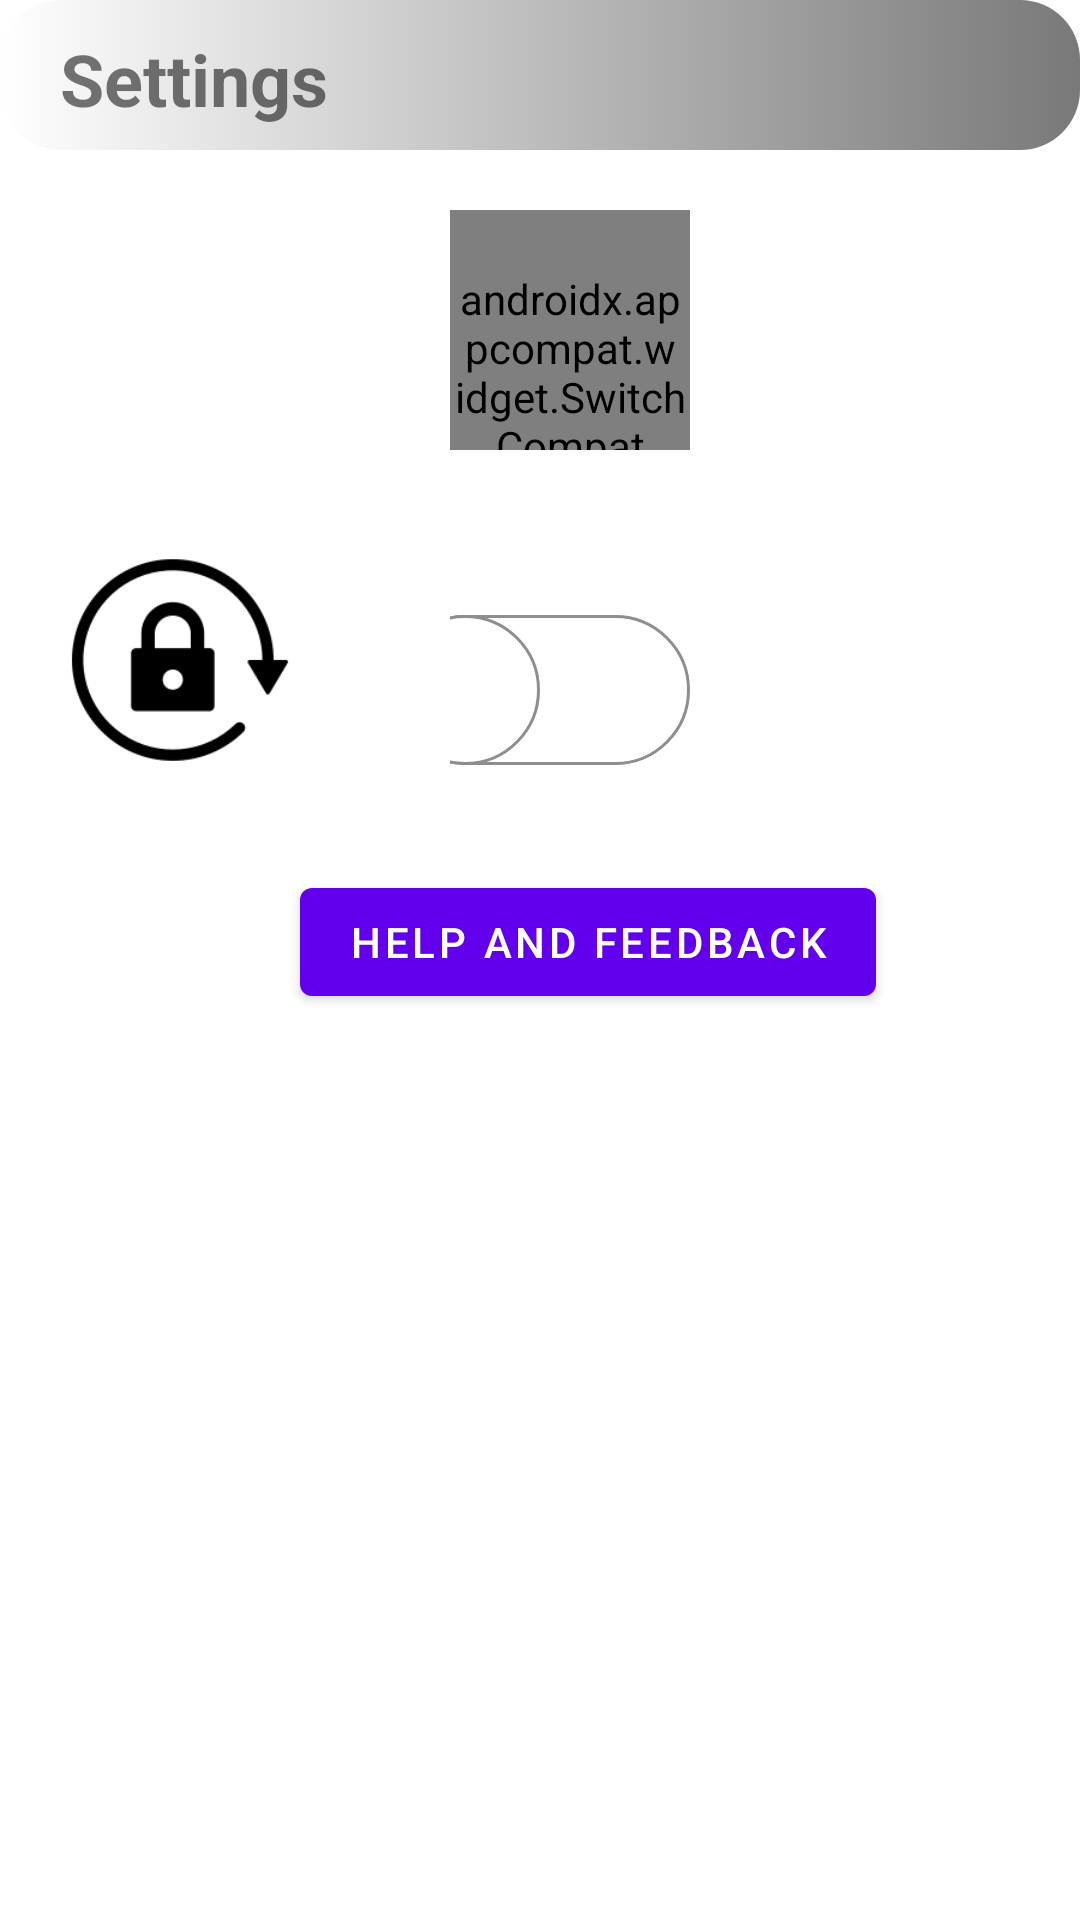

Where to tap for icons on this 1080x1920 app screen, as point (x, y):
lockportrait: point (180, 660)
